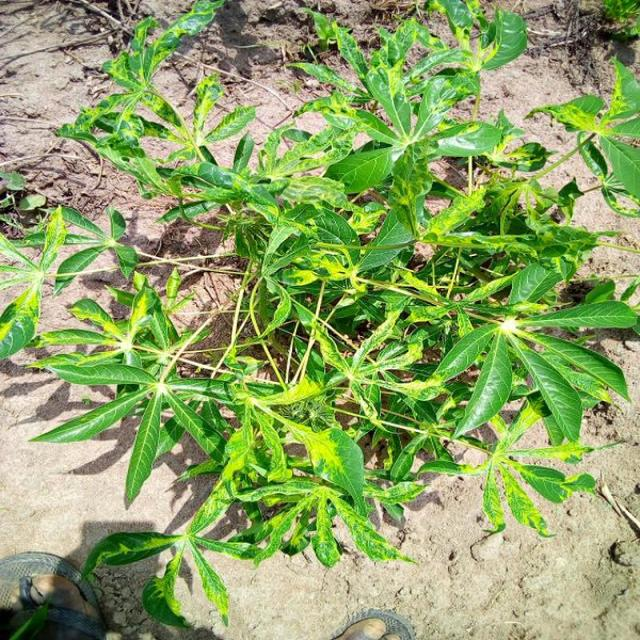cassava leaf: (5, 1, 637, 632)
